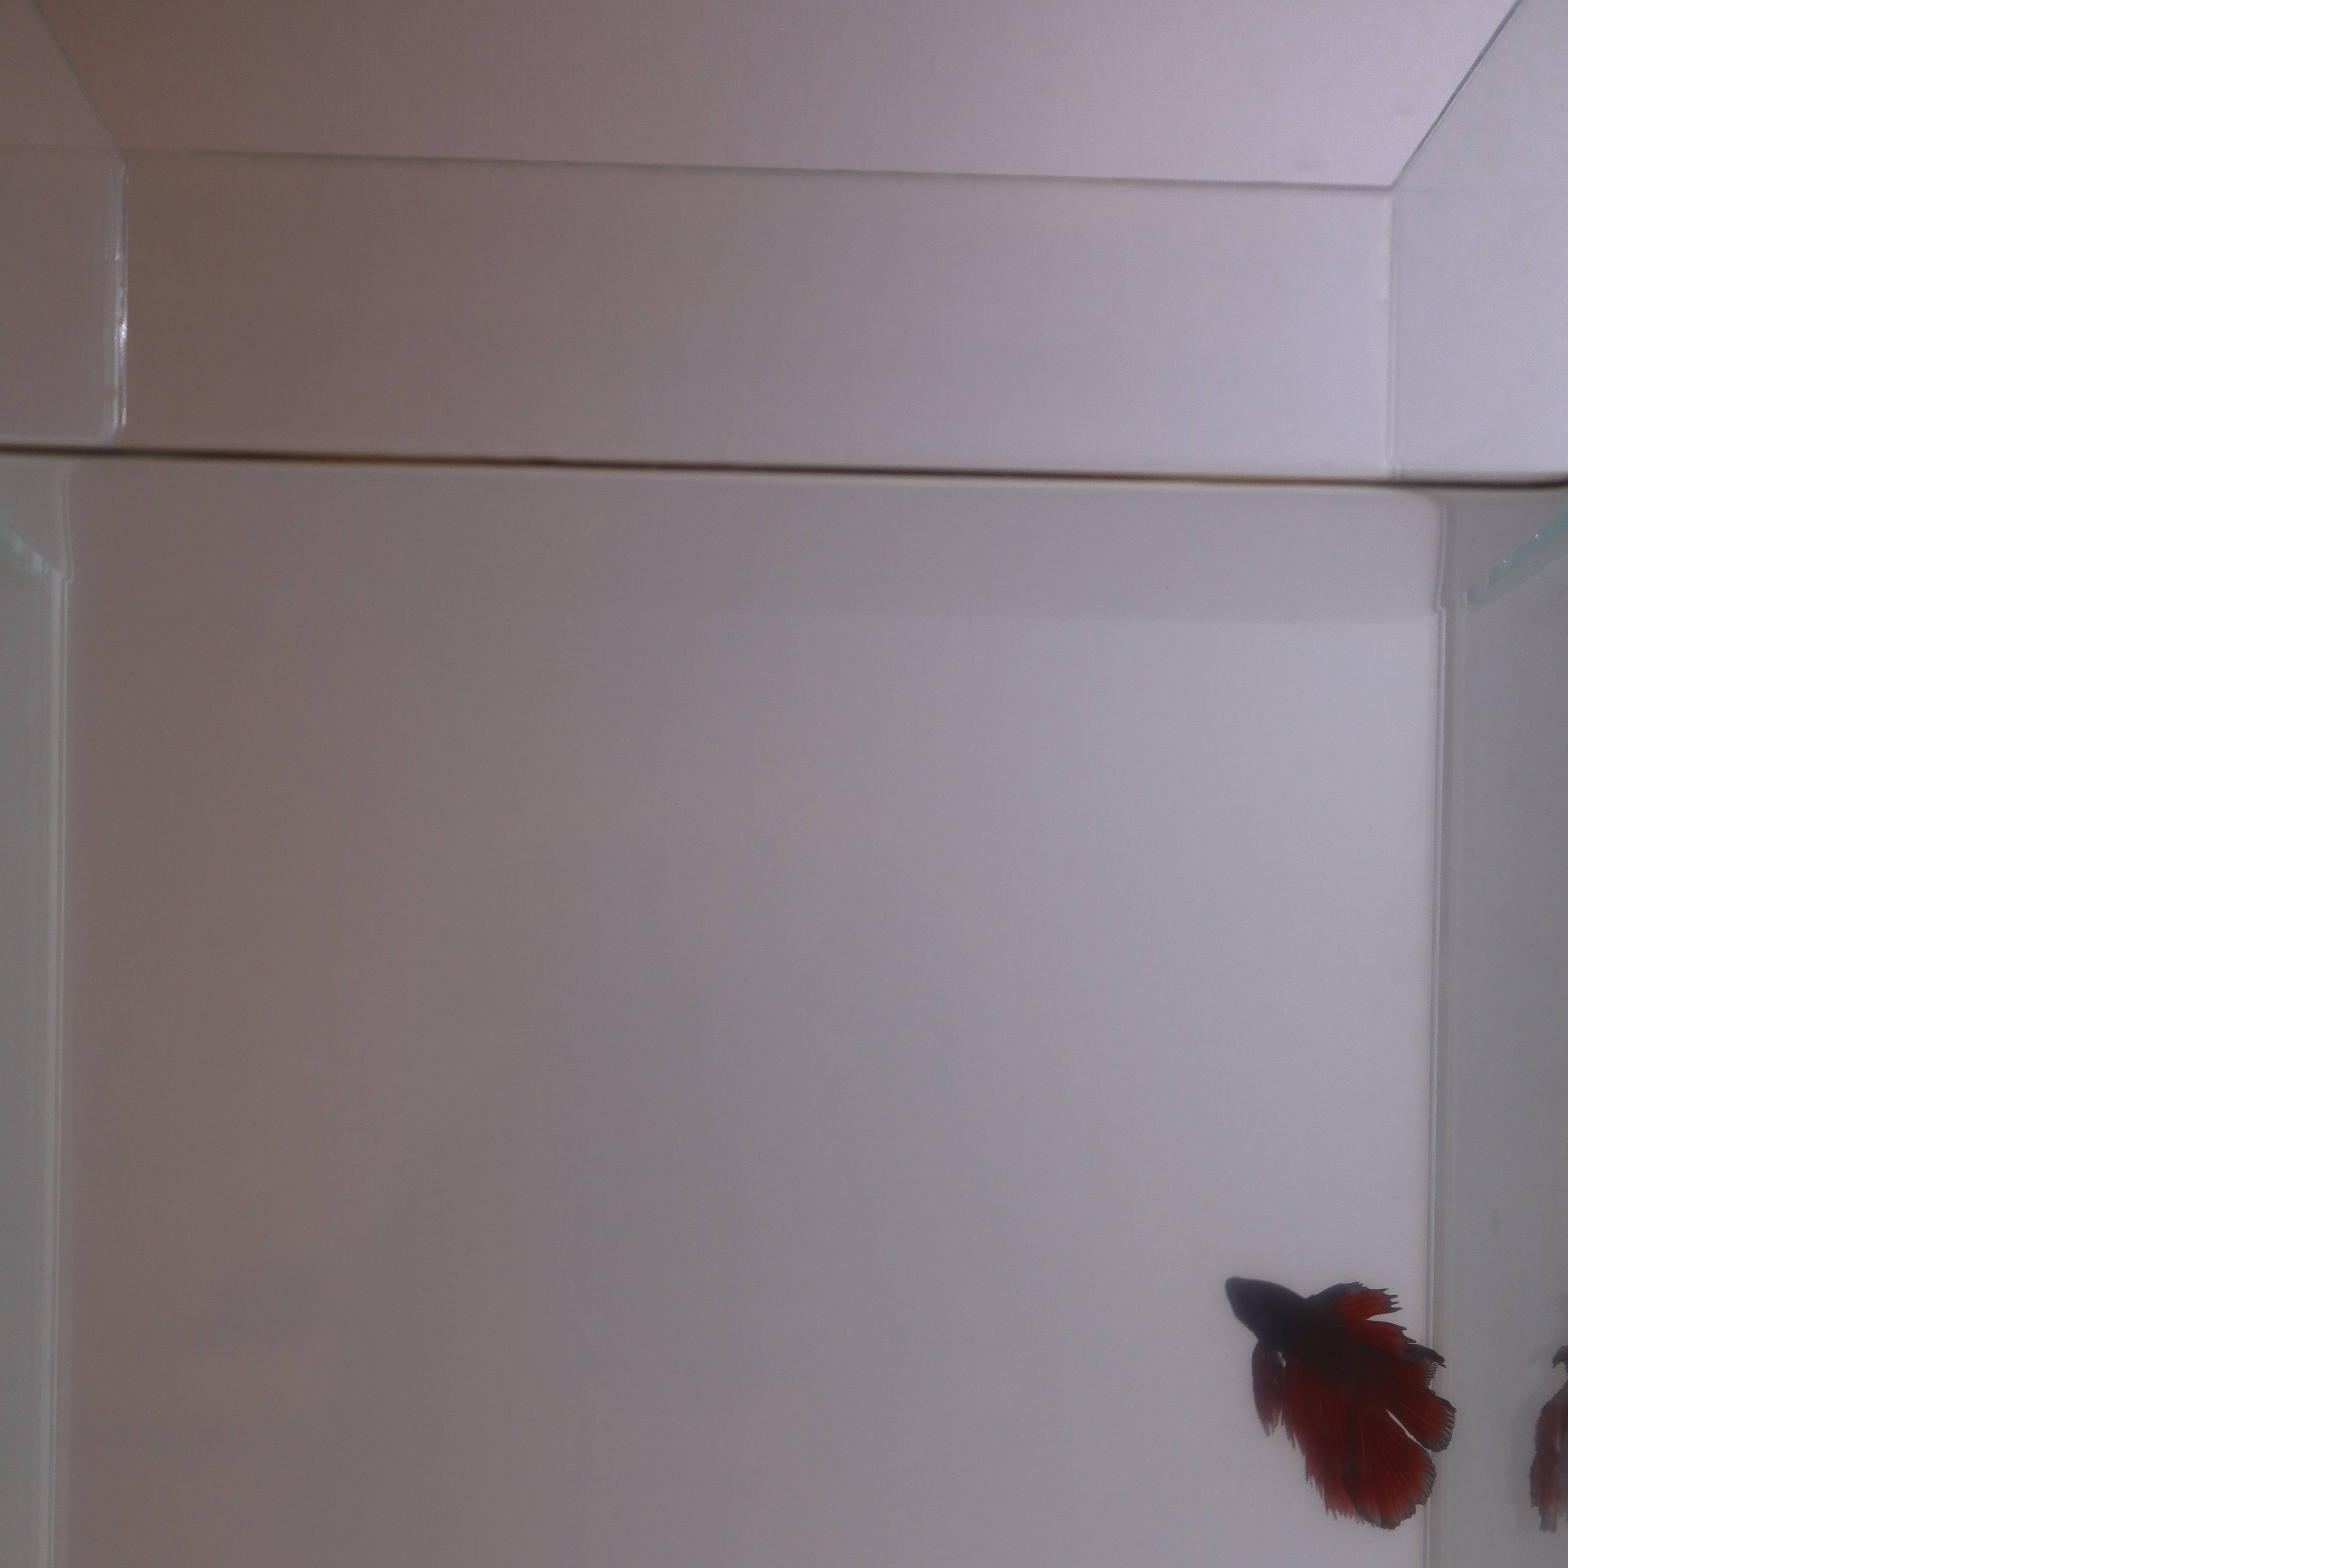fish: (1213, 1253, 1470, 1533)
